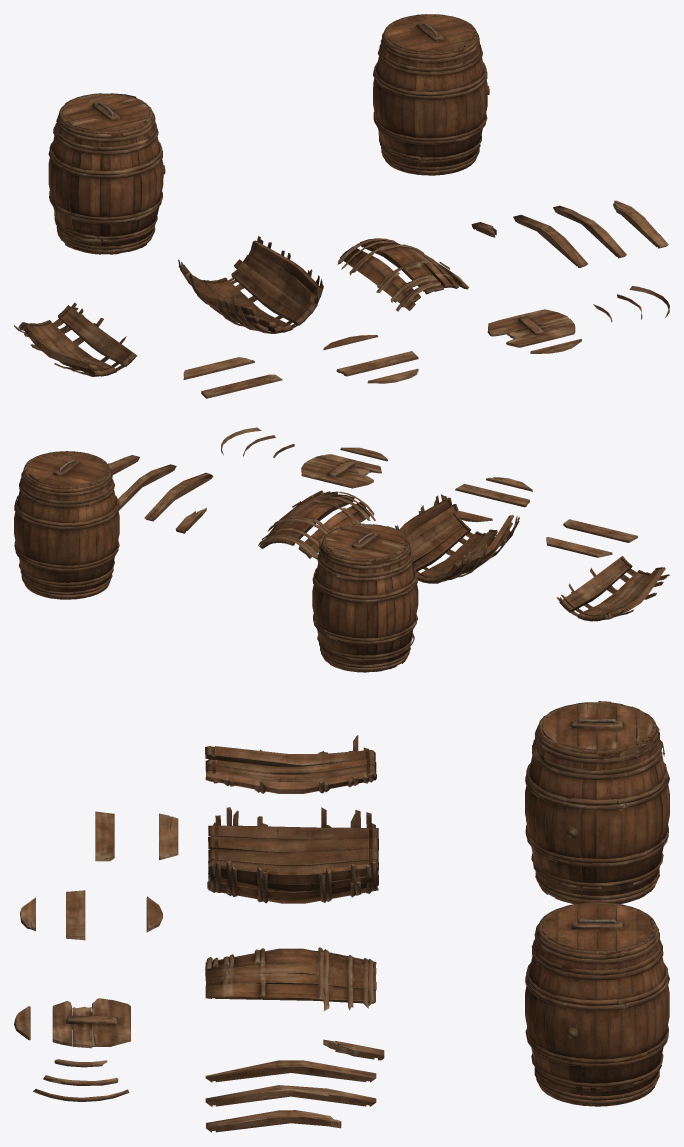
Rendered from barrels.glb.
3 views of the same model, one above another, from view 1: azimuth 30°, elevation 25°; view 2: azimuth 150°, elevation 25°; view 3: azimuth 270°, elevation 25° (orthographic). The views are drawn at different scales.
Visible parts, largest first — view 1: wooden_barrels_01_piece01, wooden_barrels_01_barrel02, wooden_barrels_01_barrel01; view 2: wooden_barrels_01_piece01, wooden_barrels_01_barrel02, wooden_barrels_01_barrel01; view 3: wooden_barrels_01_piece01, wooden_barrels_01_barrel01, wooden_barrels_01_barrel02.
Part boxes in pixels (bbox=[...]): wooden_barrels_01_piece01: bbox=[14, 200, 669, 398]; wooden_barrels_01_barrel02: bbox=[48, 93, 165, 254]; wooden_barrels_01_barrel01: bbox=[373, 14, 489, 175]; wooden_barrels_01_piece01: bbox=[108, 427, 669, 621]; wooden_barrels_01_barrel02: bbox=[312, 523, 418, 672]; wooden_barrels_01_barrel01: bbox=[14, 451, 119, 599]; wooden_barrels_01_piece01: bbox=[14, 735, 384, 1132]; wooden_barrels_01_barrel01: bbox=[525, 902, 669, 1106]; wooden_barrels_01_barrel02: bbox=[525, 701, 669, 903].
Bounding box in the file's own units: 4.44 × 0.9532 × 3.34.
3 materials, 3 textured.
